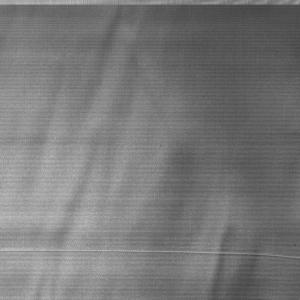Wrinkle: (1, 1, 169, 300), (202, 193, 274, 300)
